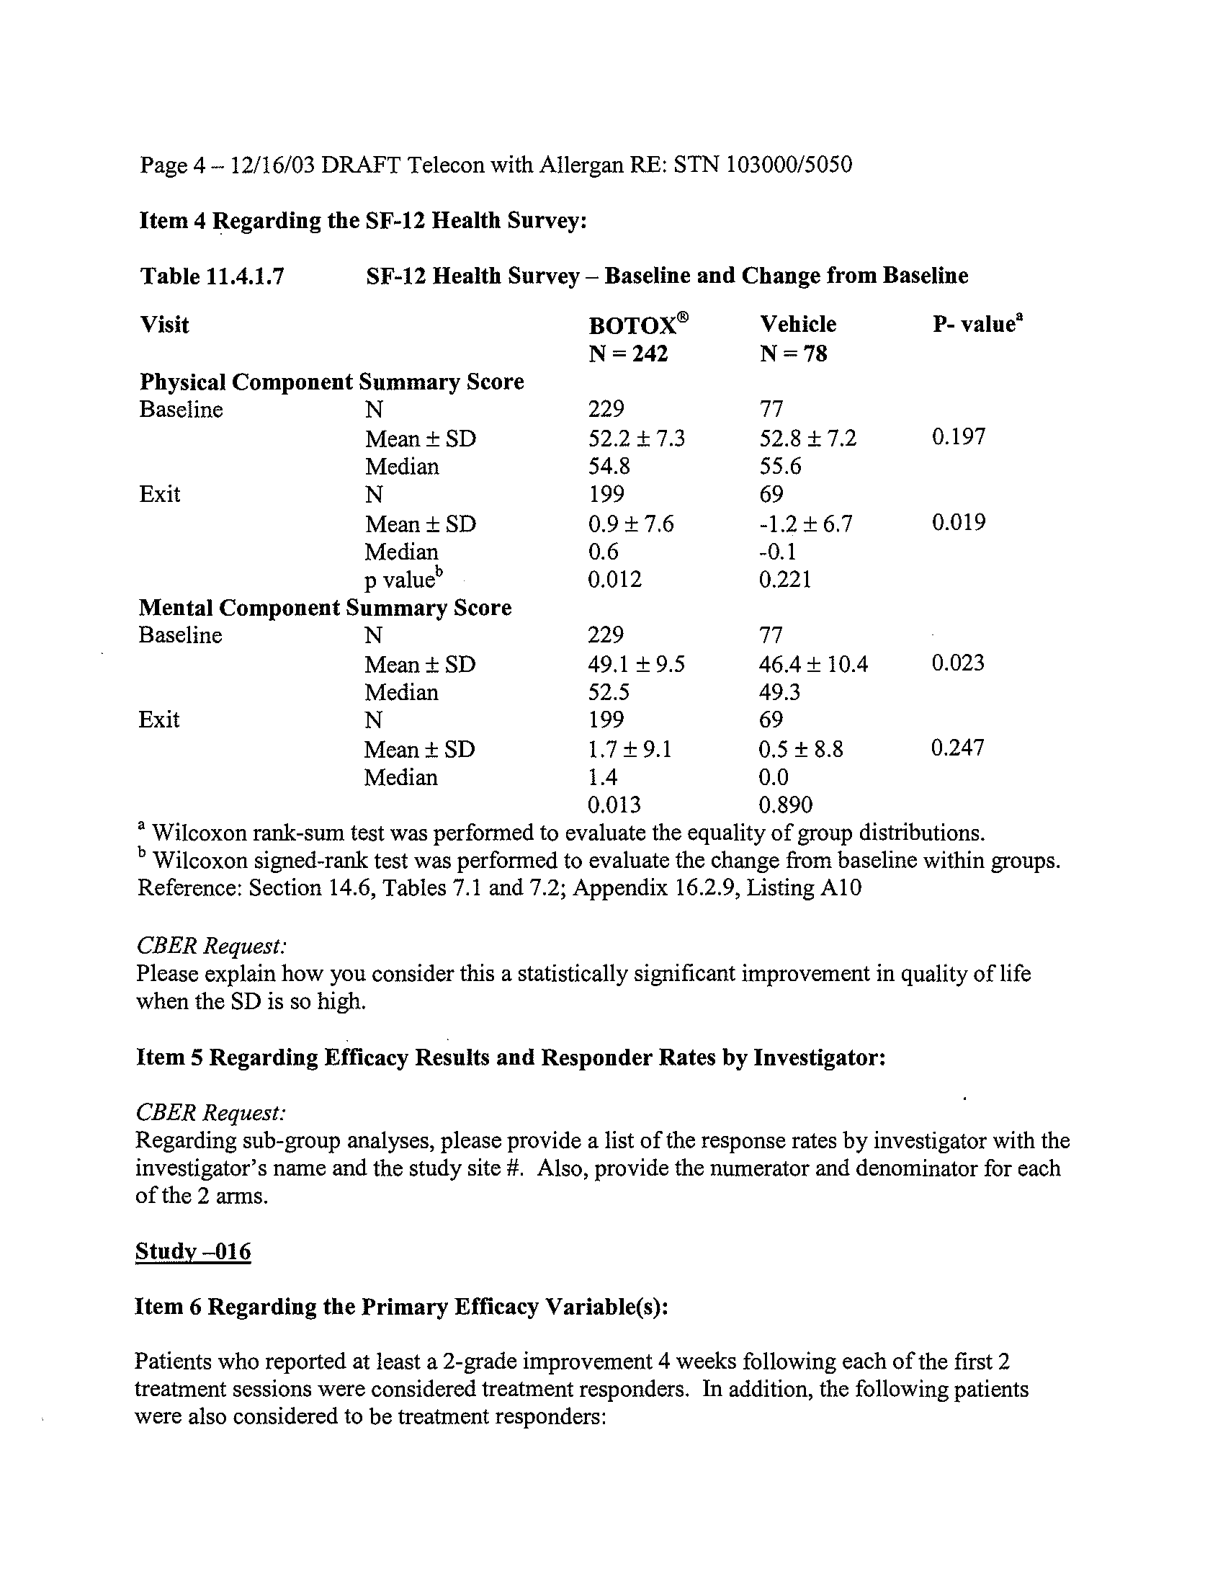nolines: (136, 302, 1028, 818)
